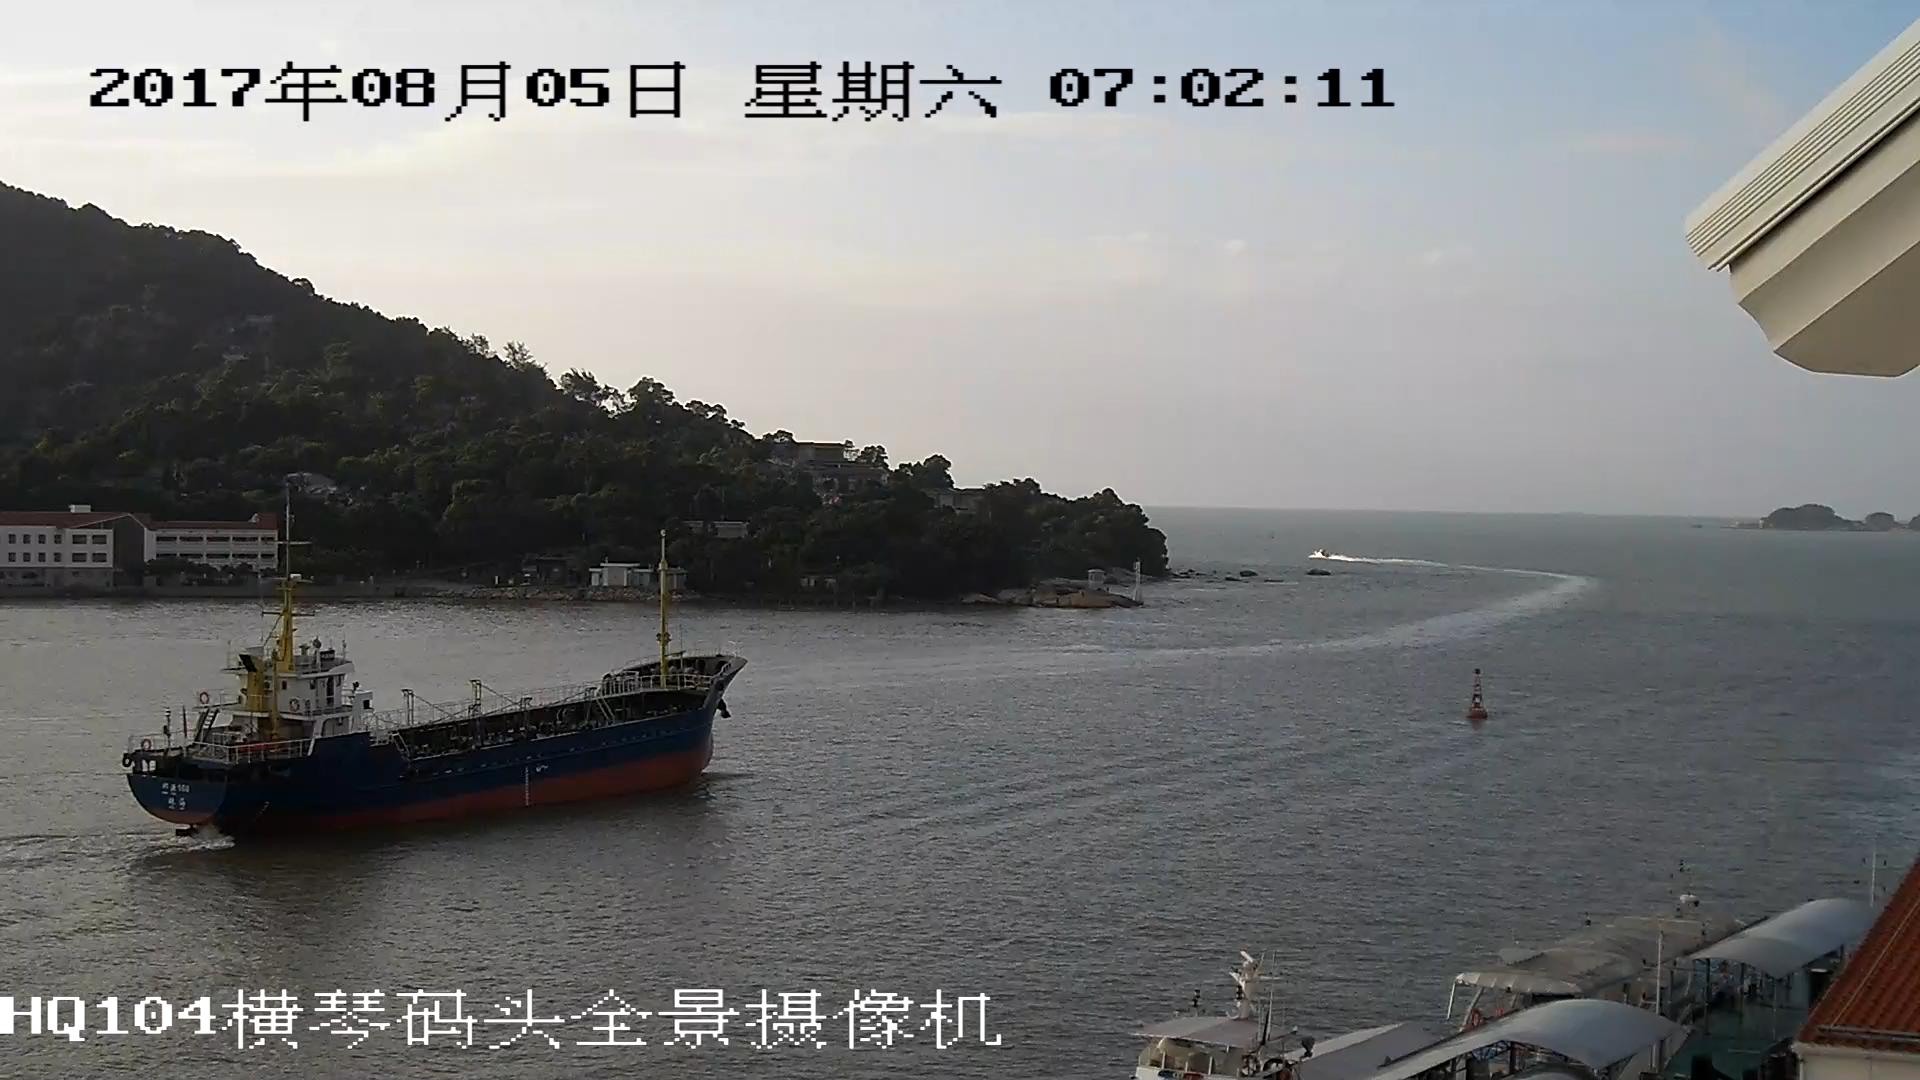general cargo ship: (120, 526, 747, 841)
